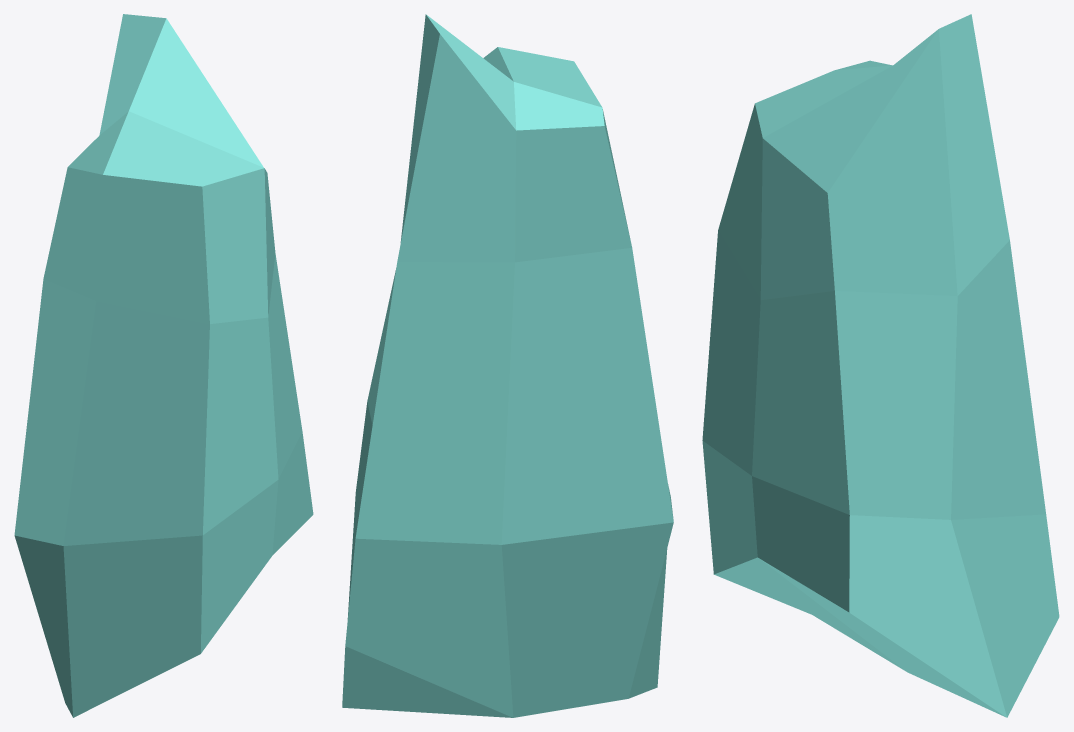
Rendered from ProjectileIce_01_vf.FBX.
The picture shows the model from 3 angles, left to right: view 1: azimuth 30°, elevation 25°; view 2: azimuth 150°, elevation 25°; view 3: azimuth 270°, elevation 25°; orthographic projection. The views are drawn at different scales.
Parts seen in each view (by area): view 1: Object007; view 2: Object007; view 3: Object007.
Part boxes in pixels (x1,y1,x2,y2): Object007: (14, 14, 313, 717); Object007: (342, 14, 673, 717); Object007: (702, 14, 1059, 717).
Size of the model in its own units: 20.25 by 41.35 by 19.78.
1 material, 1 textured.
